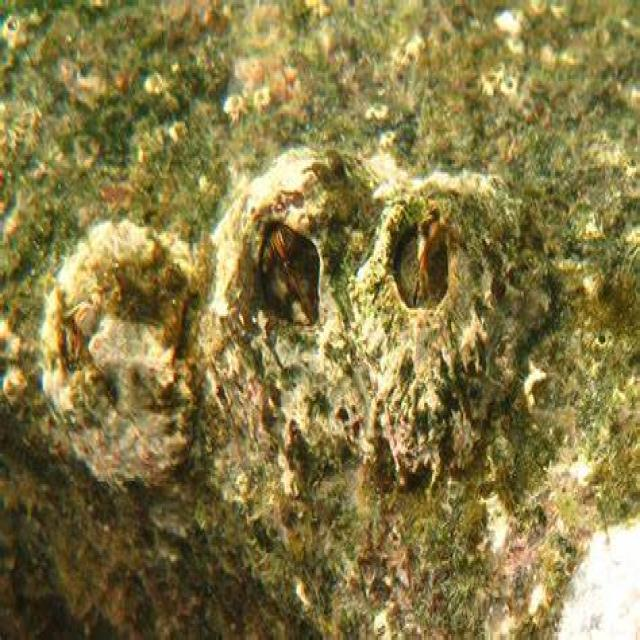barnacles: (347, 158, 543, 477), (202, 111, 372, 464), (33, 205, 201, 500)
